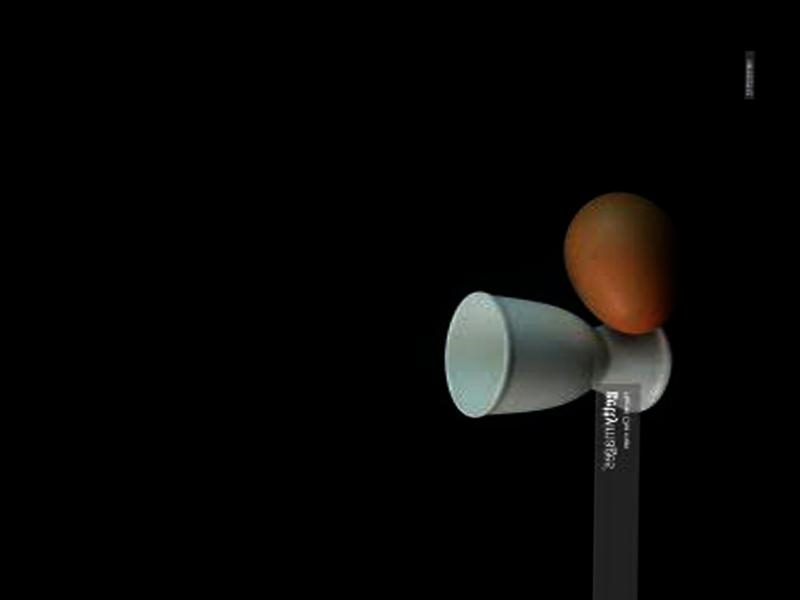Eggs: (561, 192, 678, 336)
